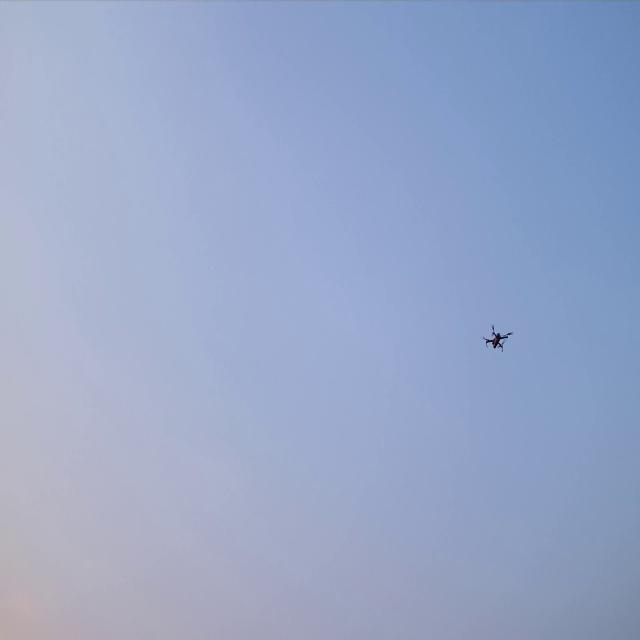UAV: (480, 322, 514, 355)
